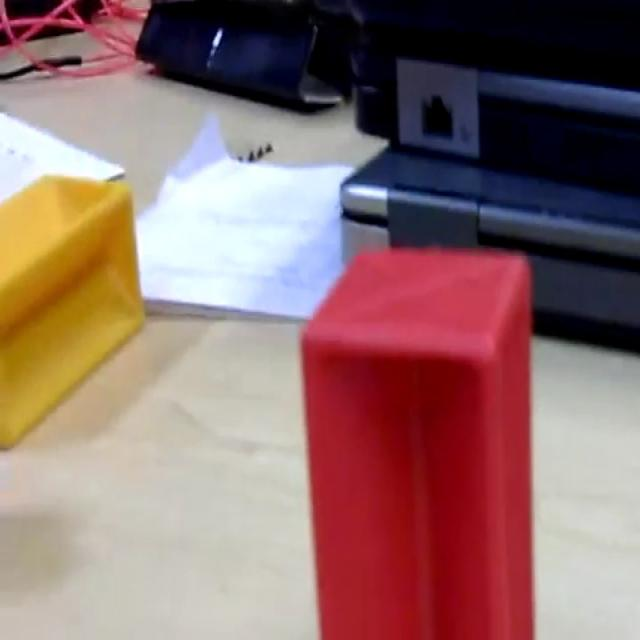red_block: (298, 244, 535, 636)
yellow_block: (0, 171, 146, 449)
